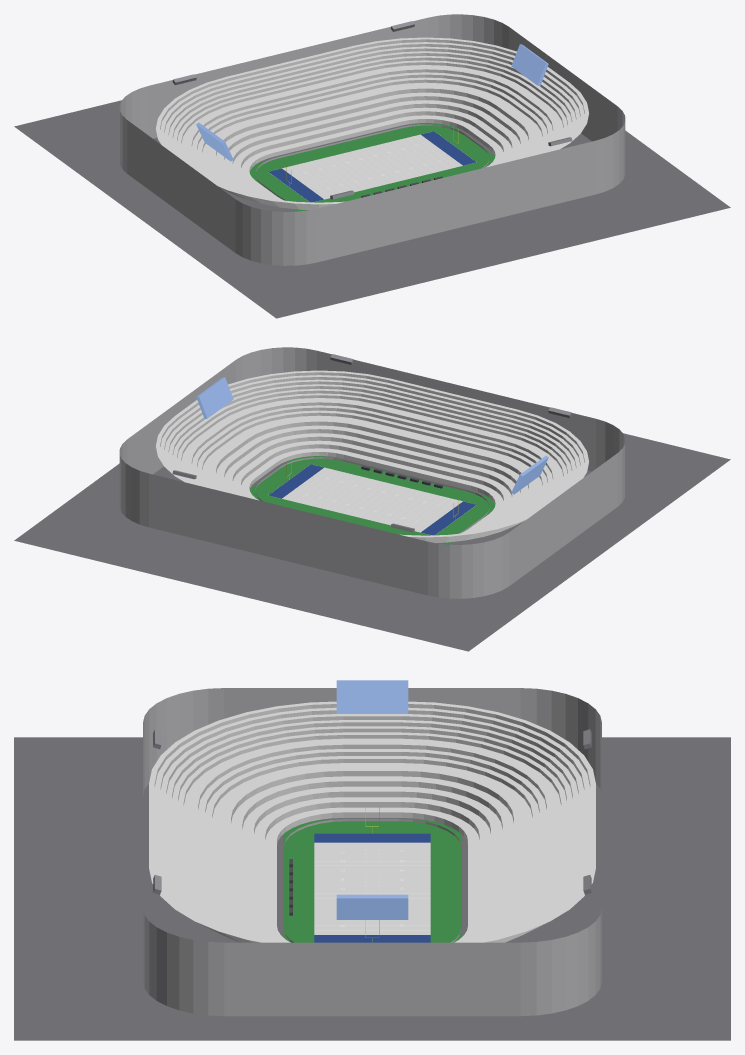
The model's file is stadium.fbx.
3 views of the same model, one above another, from view 1: azimuth 30°, elevation 25°; view 2: azimuth 150°, elevation 25°; view 3: azimuth 270°, elevation 25° (orthographic). The views are drawn at different scales.
Visible parts, largest first — view 1: Stadium_Bowl, Stadium_Shell, Ground_Plane, FF_Field, Field_Apron, Videoboards, FF_EndZones, Perimeter_Wall_Inner, Light_Racks; view 2: Stadium_Bowl, Stadium_Shell, Ground_Plane, FF_Field, Field_Apron, Videoboards, FF_EndZones, Perimeter_Wall_Inner, Light_Racks; view 3: Ground_Plane, Stadium_Bowl, Stadium_Shell, FF_Field, Field_Apron, Videoboards, FF_EndZones, Perimeter_Wall_Inner, FF_Markings, Light_Racks.
Boxes of the visible parts, box(x1,y1,x2,y2) form: Stadium_Bowl: box(156, 37, 588, 210); Stadium_Shell: box(119, 14, 625, 265); Ground_Plane: box(14, 100, 730, 318); FF_Field: box(282, 134, 462, 199); Field_Apron: box(249, 123, 494, 211); Videoboards: box(196, 44, 548, 161); FF_EndZones: box(268, 131, 476, 202); Perimeter_Wall_Inner: box(255, 124, 489, 200); Light_Racks: box(172, 21, 572, 199); Stadium_Bowl: box(156, 370, 588, 543); Stadium_Shell: box(119, 347, 625, 598); Ground_Plane: box(14, 433, 730, 651); FF_Field: box(282, 467, 462, 532); Field_Apron: box(250, 456, 495, 544); Videoboards: box(196, 377, 548, 494); FF_EndZones: box(268, 464, 476, 535); Perimeter_Wall_Inner: box(255, 457, 489, 533); Light_Racks: box(172, 354, 572, 532); Ground_Plane: box(14, 737, 730, 1040); Stadium_Bowl: box(149, 701, 595, 942); Stadium_Shell: box(143, 688, 601, 1016); FF_Field: box(314, 842, 430, 934); Field_Apron: box(283, 820, 461, 942); Videoboards: box(336, 680, 408, 919); FF_EndZones: box(314, 833, 430, 942); Perimeter_Wall_Inner: box(284, 819, 460, 942); FF_Markings: box(314, 845, 430, 934); Light_Racks: box(153, 729, 591, 894).
Size of the model in its own units: 30000 by 4683 by 30000.
